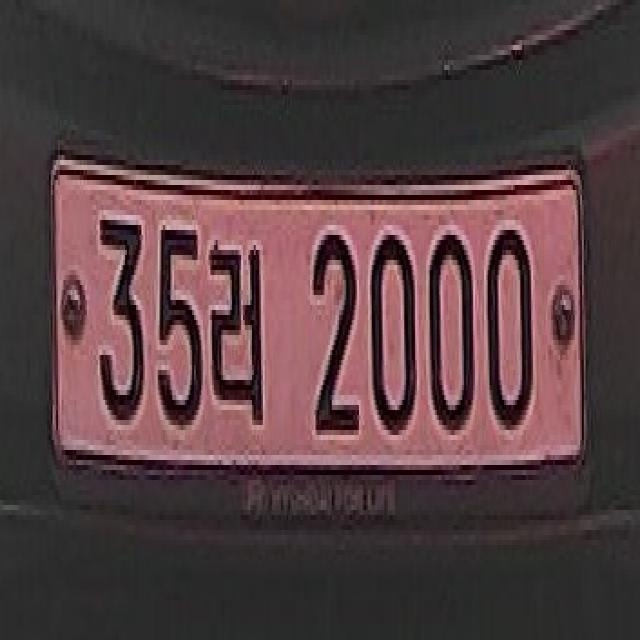0: (366, 225, 419, 450), (424, 225, 477, 445), (480, 220, 533, 440)
2: (308, 225, 363, 440)
3: (94, 200, 149, 425)
5: (154, 225, 205, 435)
leo: (205, 230, 265, 440)
license_plate: (49, 150, 586, 480)
